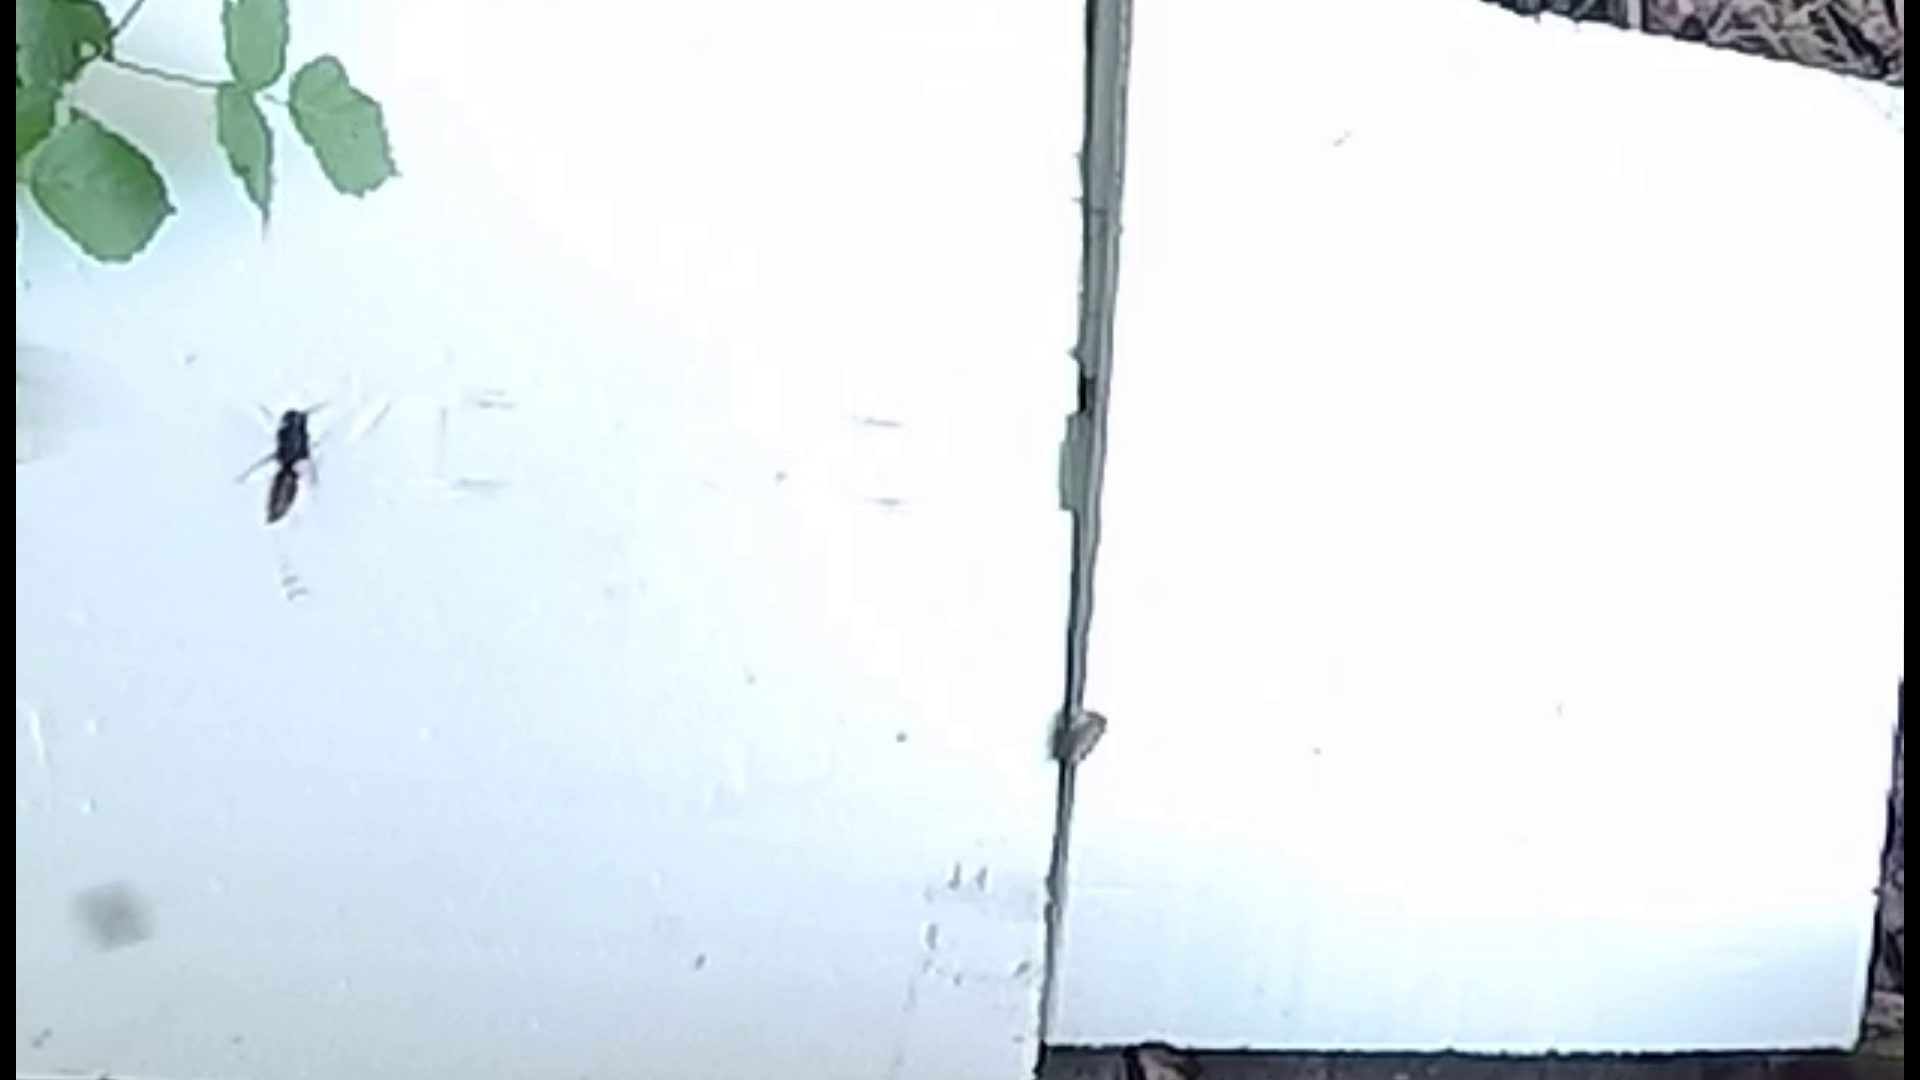Asian_hornets: (214, 369, 367, 546)
